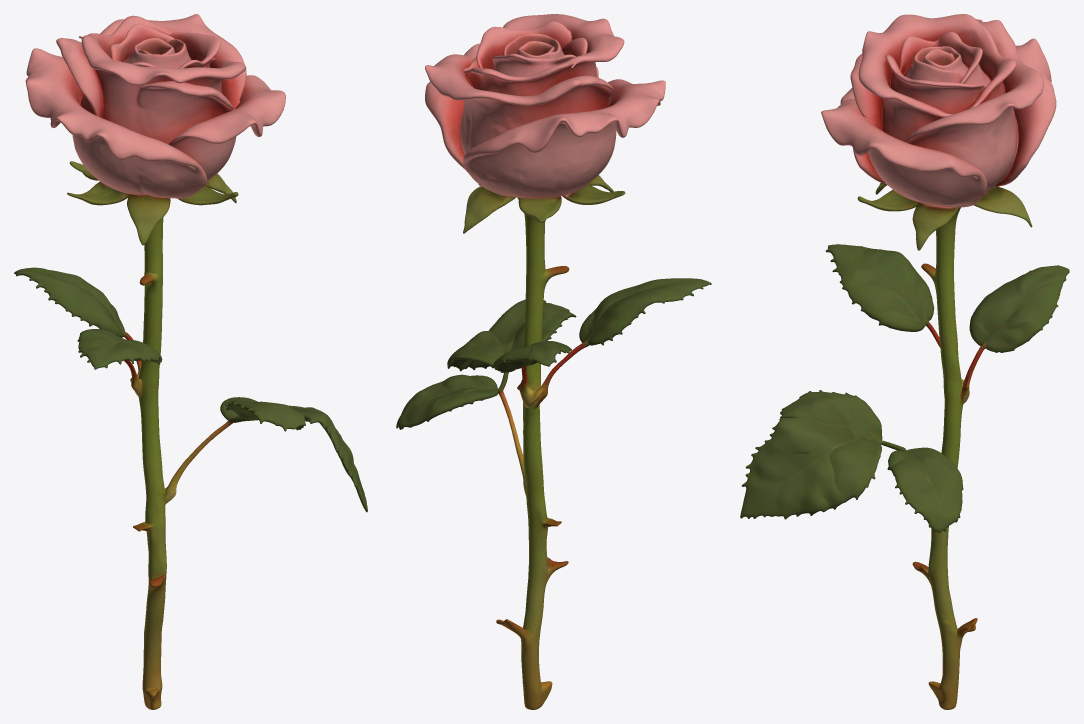
File: pinkrose4.glb
3 views of the same model, side by side, from view 1: azimuth 30°, elevation 25°; view 2: azimuth 150°, elevation 25°; view 3: azimuth 270°, elevation 25° (orthographic).
Parts seen in each view (by area): view 1: tripo_node_acf27c23-6f95-4cd0-8a14-4b1c4471377b; view 2: tripo_node_acf27c23-6f95-4cd0-8a14-4b1c4471377b; view 3: tripo_node_acf27c23-6f95-4cd0-8a14-4b1c4471377b.
Part boxes in pixels (x1,y1,x2,y2): tripo_node_acf27c23-6f95-4cd0-8a14-4b1c4471377b: [14, 14, 367, 709]; tripo_node_acf27c23-6f95-4cd0-8a14-4b1c4471377b: [396, 14, 711, 709]; tripo_node_acf27c23-6f95-4cd0-8a14-4b1c4471377b: [740, 14, 1069, 709].
Size of the model in its own units: 0.403 by 1 by 0.4492.
1 material, 1 textured.
